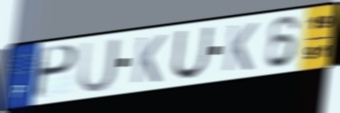6: (265, 13, 301, 70)
K: (221, 21, 260, 74), (130, 33, 168, 86)
P: (31, 43, 79, 102)
U: (77, 36, 122, 95), (170, 25, 215, 81)
